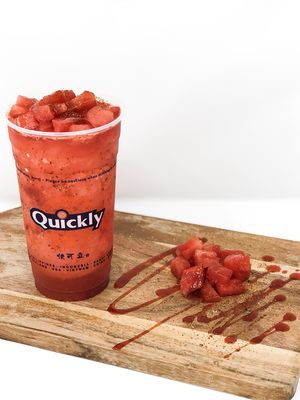pizza: (4, 91, 124, 301)
